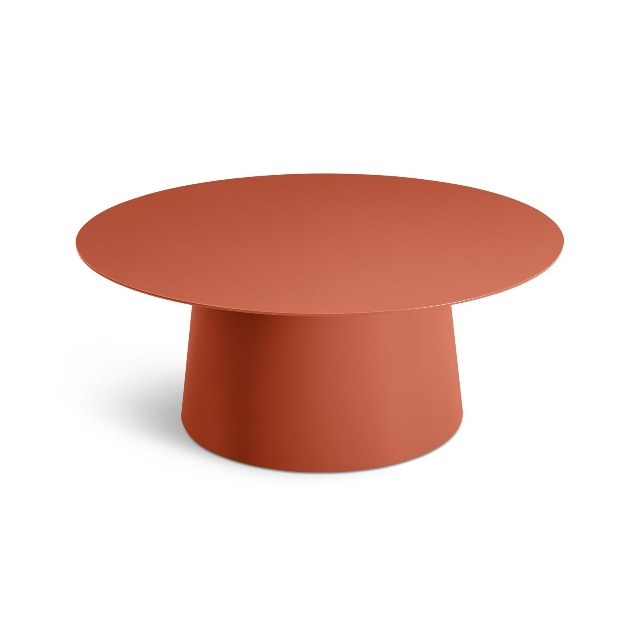obstacle: (76, 174, 563, 471)
